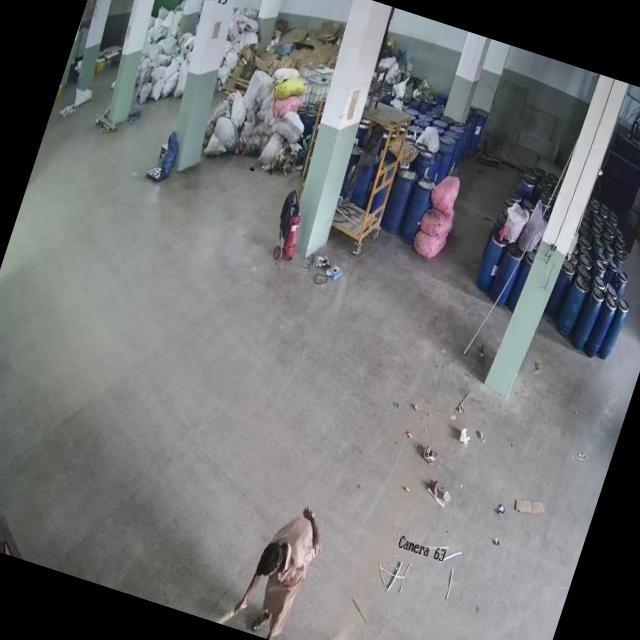person: (237, 504, 327, 640)
